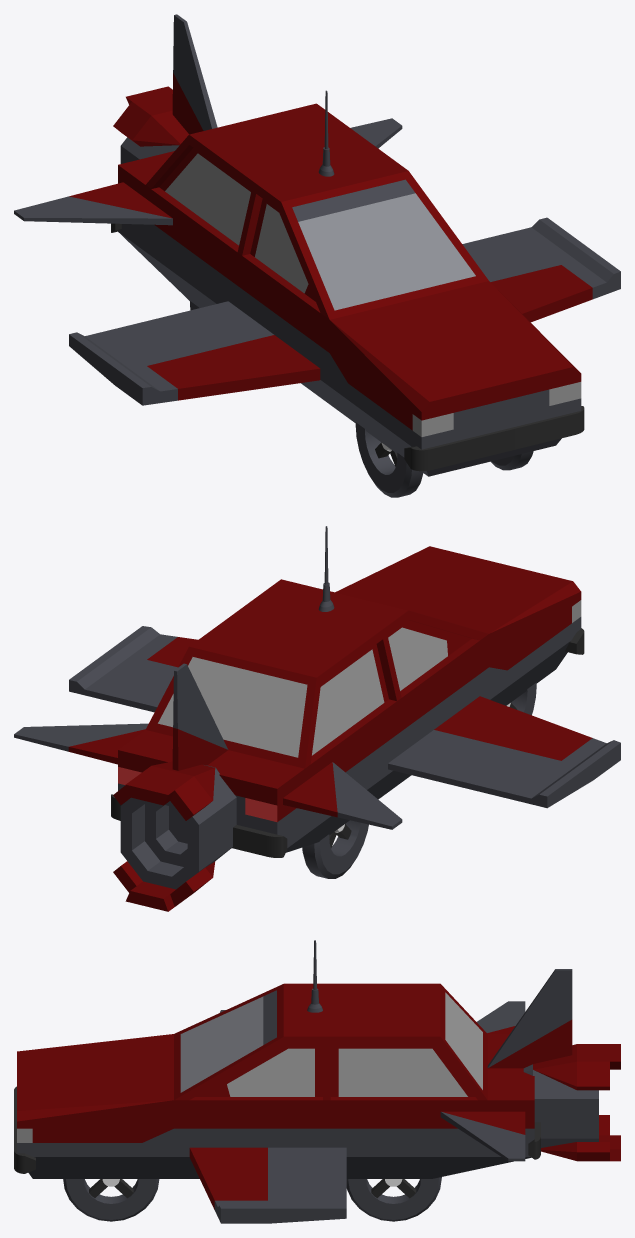
File: FlyingCar3.fbx
3 renders of one model, top to bottom at view 1: azimuth 30°, elevation 25°; view 2: azimuth 150°, elevation 25°; view 3: azimuth 270°, elevation 25°, orthographic. The views are drawn at different scales.
Visible parts, largest first — view 1: body_frontLarge, body_topSports, wing_slantWinglet (×2), body_topBackStation, body_backSolid, rudder (×3), body_standard, bumper, turbine_flaps, wheel_spokes; view 2: body_topBackStation, wing_slantWinglet (×2), body_frontLarge, turbine_flaps, body_backSolid, rudder (×3), body_topSports, body_standard, wheel_spokes, bumper; view 3: body_frontLarge, body_topBackStation, body_topSports, body_backSolid, wing_slantWinglet, rudder (×3), body_standard, turbine_flaps, wheel_spokes (×2), bumper, detail_antenna.
Part boxes in pixels (x1,y1,x2,y2): body_frontLarge: (329, 281, 581, 476); body_topSports: (237, 150, 488, 319); wing_slantWinglet (×2): (69, 217, 620, 405); body_topBackStation: (146, 103, 380, 245); body_backSolid: (118, 151, 238, 307); rudder (×3): (14, 14, 402, 225); body_standard: (237, 253, 344, 415); bumper: (404, 406, 584, 471); turbine_flaps: (113, 86, 188, 163); wheel_spokes: (355, 422, 423, 497); body_topBackStation: (145, 599, 388, 768); wing_slantWinglet (×2): (69, 626, 620, 808); body_frontLarge: (335, 546, 581, 705); turbine_flaps: (113, 761, 236, 911); body_backSolid: (118, 699, 396, 852); rudder (×3): (14, 663, 402, 829); body_topSports: (254, 579, 488, 700); body_standard: (381, 634, 488, 797); wheel_spokes: (302, 820, 368, 878); bumper: (111, 794, 287, 857); body_frontLarge: (17, 1034, 173, 1178); body_topBackStation: (330, 983, 487, 1100); body_topSports: (174, 983, 330, 1100); body_backSolid: (330, 1034, 534, 1178); wing_slantWinglet: (189, 1147, 346, 1223); rudder (×3): (440, 969, 572, 1161); body_standard: (174, 1097, 330, 1178); turbine_flaps: (523, 1044, 620, 1161); wheel_spokes (×2): (63, 1177, 441, 1221); bumper: (14, 1086, 35, 1173); detail_antenna: (307, 940, 322, 1012).
Size of the model in its own units: 30 by 17.98 by 38.7.
